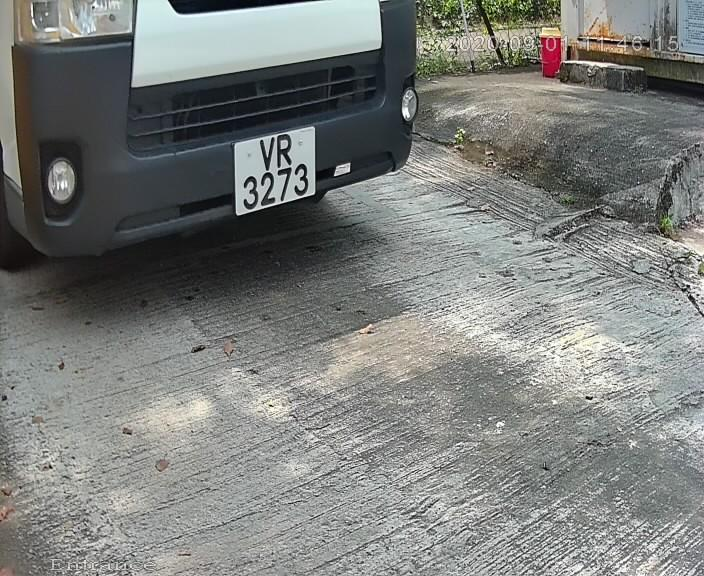License Plate: (227, 119, 331, 222)
